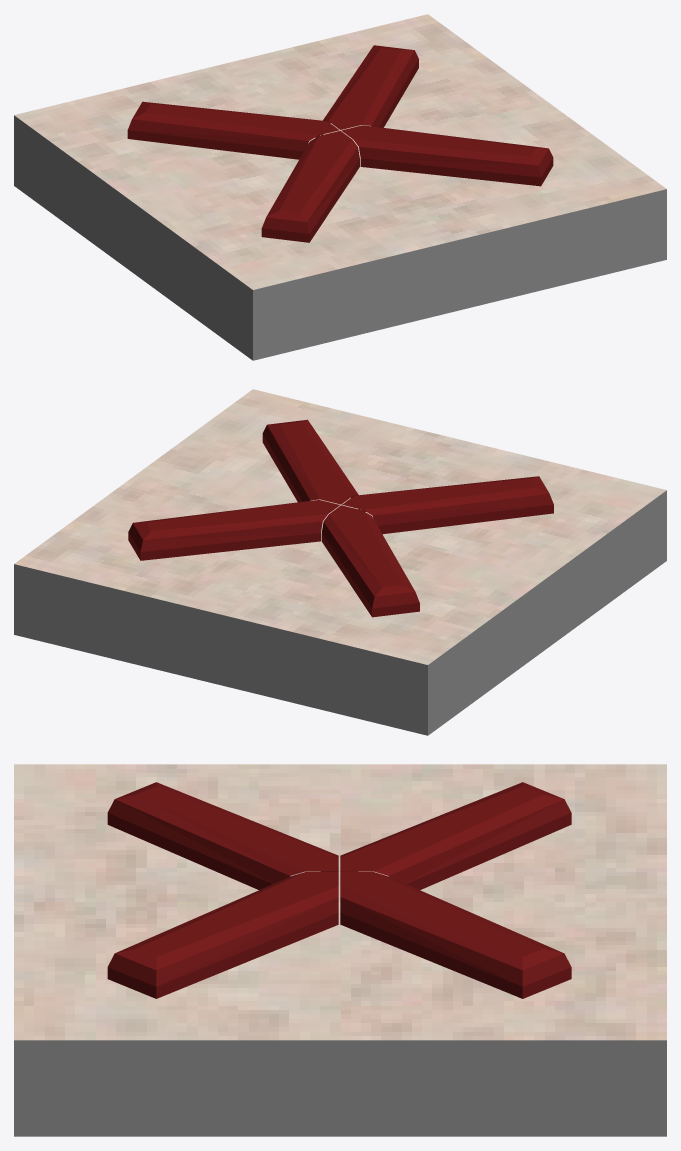
File: floor7.obj
3 views of the same model, one above another, from view 1: azimuth 30°, elevation 25°; view 2: azimuth 150°, elevation 25°; view 3: azimuth 270°, elevation 25° (orthographic). The views are drawn at different scales.
Parts seen in each view (by area): view 1: object 2, Box001, Line007, Line005, Line006, Line004; view 2: object 2, Box001, Line004, Line006, Line005, Line007; view 3: object 2, Box001, Line004, Line007, Line005, Line006.
Part boxes in pixels (x1,y1,x2,y2): object 2: (14, 14, 666, 289); Box001: (14, 115, 666, 360); Line007: (341, 125, 553, 186); Line005: (127, 101, 339, 159); Line006: (261, 131, 359, 242); Line004: (321, 45, 418, 135); object 2: (14, 389, 666, 664); Box001: (14, 490, 666, 735); Line004: (128, 500, 339, 560); Line006: (342, 476, 553, 534); Line005: (321, 505, 419, 617); Line007: (262, 419, 360, 509); object 2: (14, 764, 666, 1040); Box001: (14, 1040, 666, 1136); Line004: (340, 872, 571, 998); Line007: (107, 872, 338, 998); Line005: (340, 782, 571, 889); Line006: (107, 782, 338, 889).
Size of the model in its own units: 0.98 by 0.2099 by 0.98.
3 materials, 1 textured.
